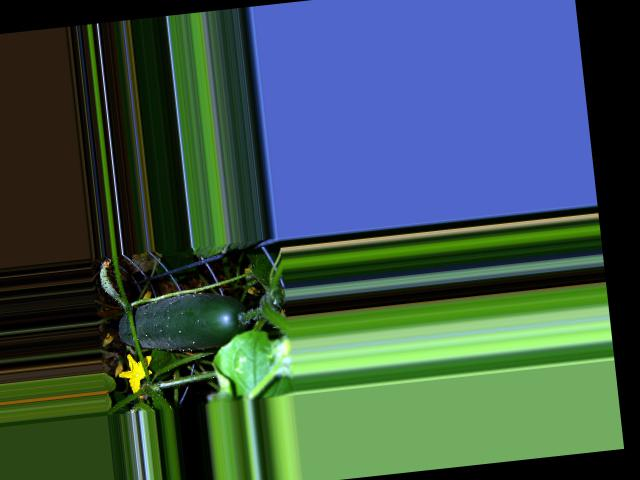cucumber: (116, 286, 251, 357)
